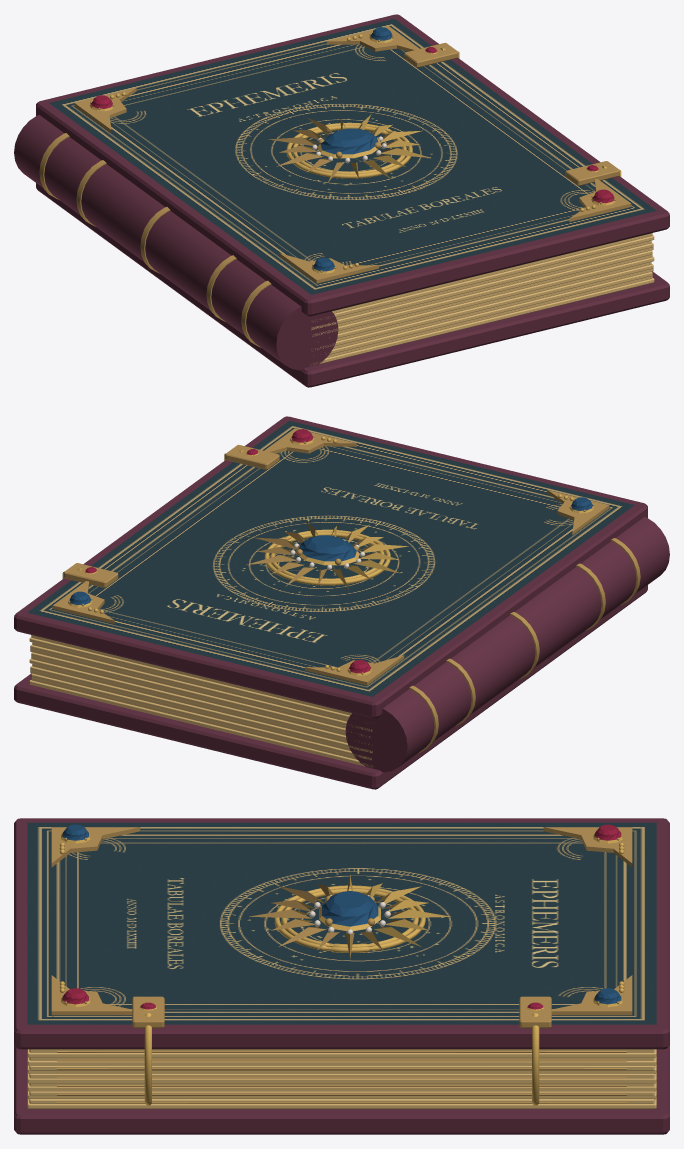
The model's file is gilt_ephemeris.fbx.
The picture shows the model from 3 angles, top to bottom: view 1: azimuth 30°, elevation 25°; view 2: azimuth 150°, elevation 25°; view 3: azimuth 270°, elevation 25°; orthographic projection. The views are drawn at different scales.
Parts seen in each view (by area): view 1: Body; view 2: Body; view 3: Body.
Boxes of the visible parts, bbox=[...] form: Body: bbox=[14, 14, 669, 387]; Body: bbox=[14, 416, 669, 789]; Body: bbox=[14, 818, 669, 1134].
Bounding box in the file's own units: 0.2042 × 0.053 × 0.244.
